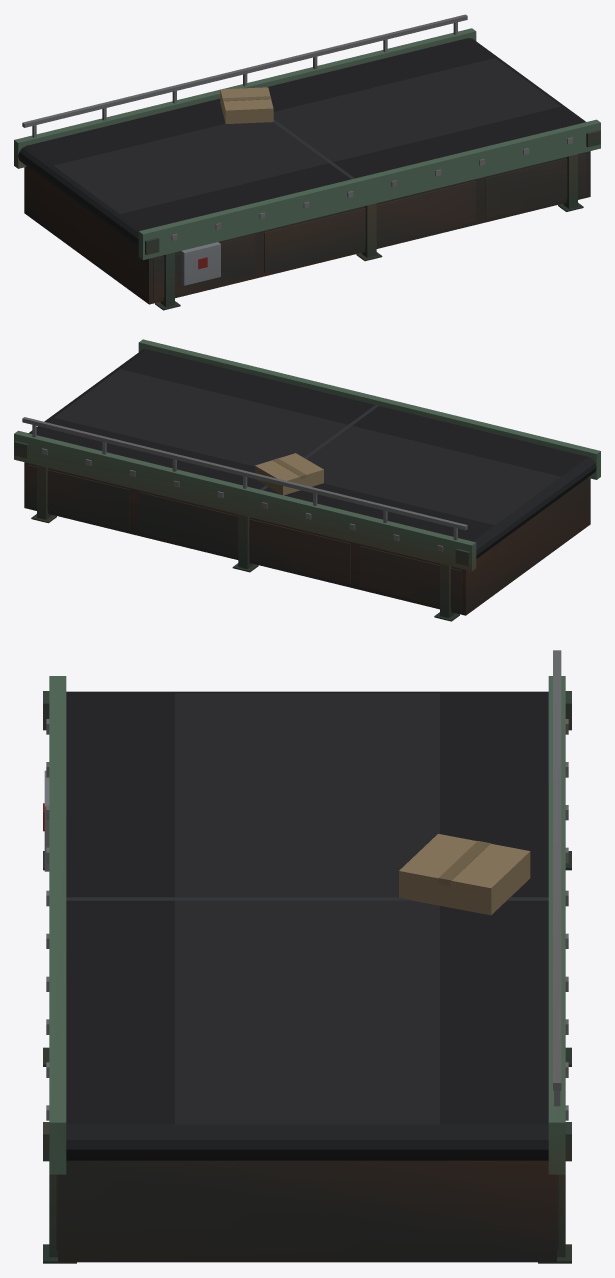
The model's file is conveyor.belt.worn.glb.
3 views of the same model, one above another, from view 1: azimuth 30°, elevation 25°; view 2: azimuth 150°, elevation 25°; view 3: azimuth 270°, elevation 25° (orthographic). The views are drawn at different scales.
Visible parts, largest first — view 1: conveyor_belt_worn; view 2: conveyor_belt_worn; view 3: conveyor_belt_worn.
Part boxes in pixels (<box>): conveyor_belt_worn: <box>14,14,600,310</box>; conveyor_belt_worn: <box>14,339,600,621</box>; conveyor_belt_worn: <box>43,650,571,1263</box>.
Size of what is drawn, in the model's own units: 5 by 1 by 2.5.
